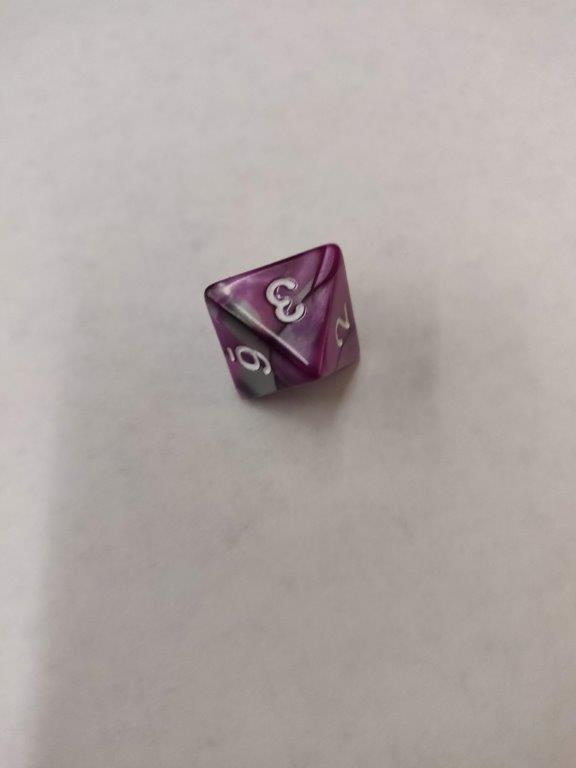d8-3: (203, 243, 362, 403)
